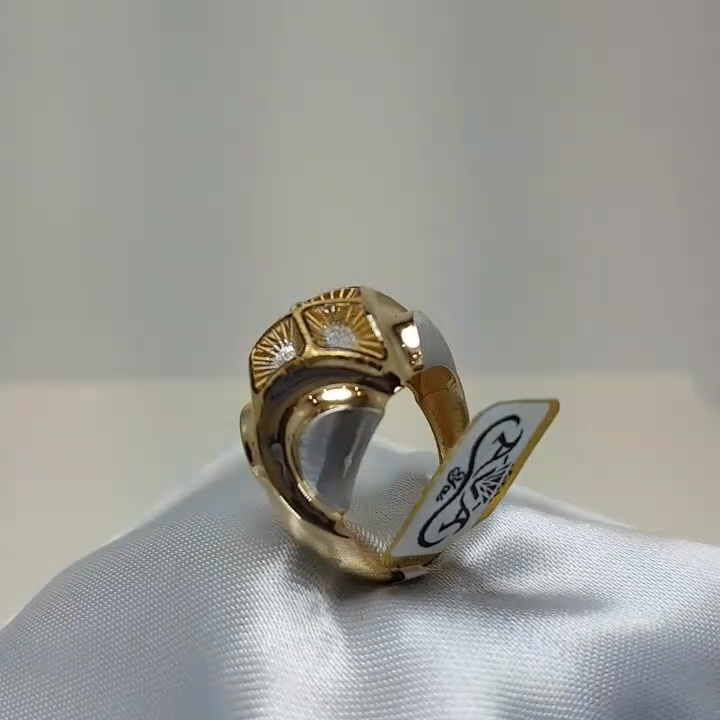Ring 2: (203, 270, 491, 606)
